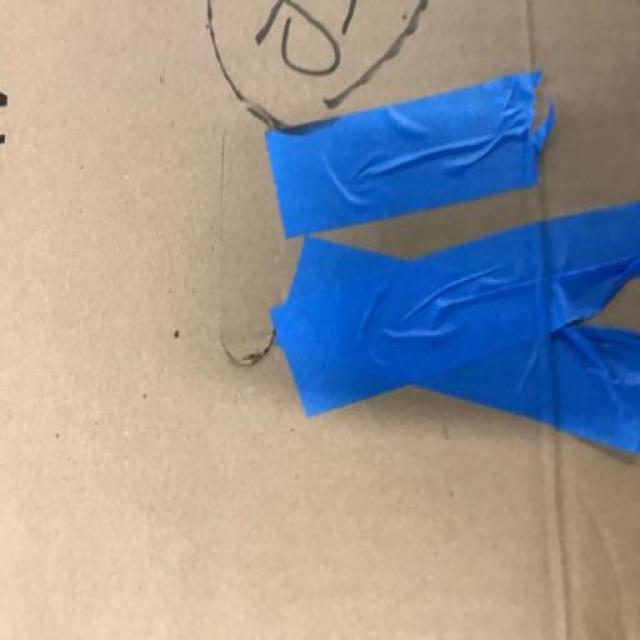cardboard paper: (0, 1, 639, 640)
